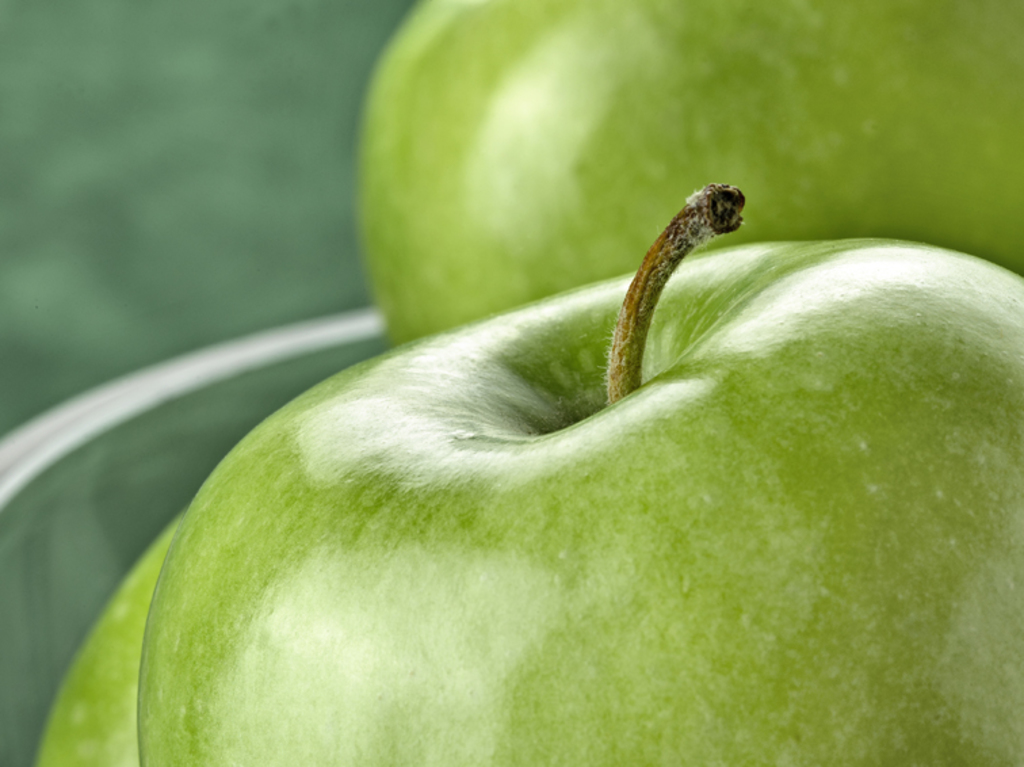Apple: (135, 186, 1022, 765), (358, 0, 1022, 348), (31, 506, 186, 762)
